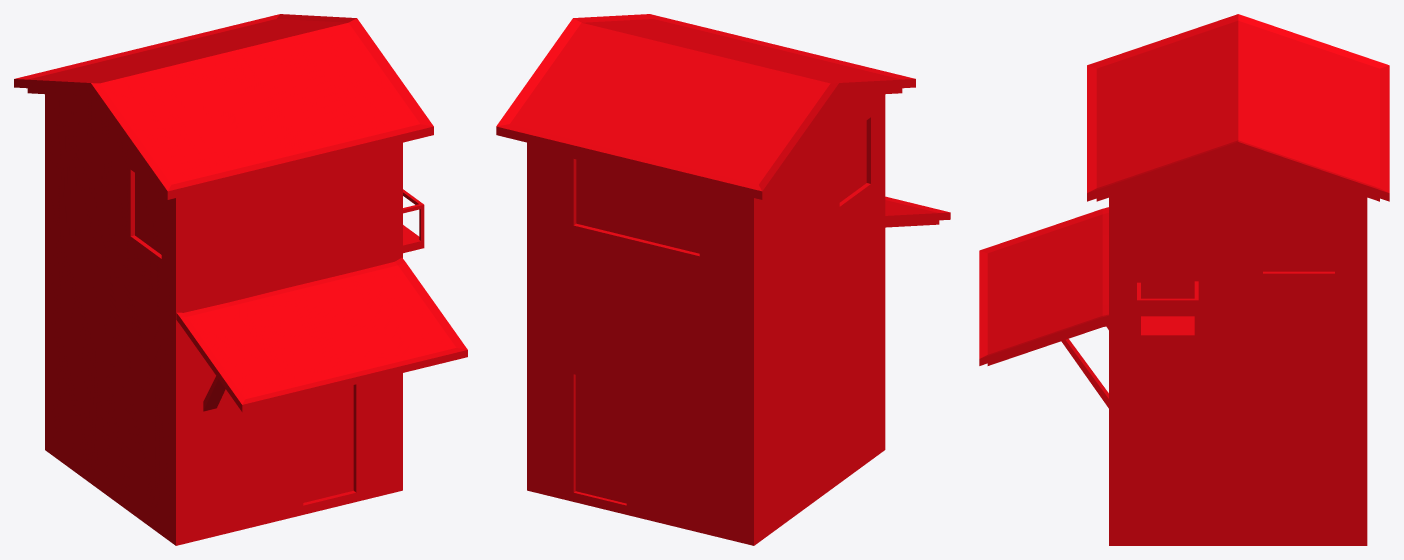
File: house_3.fbx
The picture shows the model from 3 angles, left to right: view 1: azimuth 30°, elevation 25°; view 2: azimuth 150°, elevation 25°; view 3: azimuth 270°, elevation 25°; orthographic projection.
Visible parts, largest first — view 1: medium_house; view 2: medium_house; view 3: medium_house.
Part boxes in pixels (x1=…): medium_house: x1=14, y1=14, x2=467, y2=545; medium_house: x1=496, y1=14, x2=950, y2=545; medium_house: x1=979, y1=14, x2=1389, y2=545.
Bounding box in the file's own units: 1361 × 1935 × 1741.
